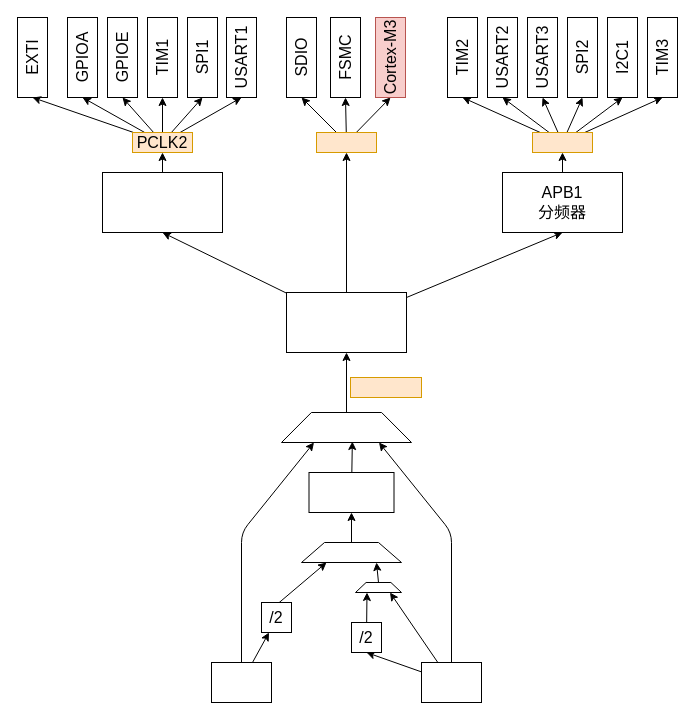
The diagram is 695 pixels wide and 720 high, and some of its shapes have lost their labels. The box of each missing label's shape, as (x1, y1, x2, y2) in pixels:
AHB 分频器: (286, 292, 406, 352)
APB2 分频器: (102, 172, 222, 232)
HCLK: (316, 132, 376, 152)
HSE: (420, 662, 482, 702)
HSI: (210, 662, 272, 702)
PCLK1: (532, 132, 592, 152)
SYSCLK: (350, 376, 422, 398)
锁相环 PLL: (308, 472, 394, 512)
